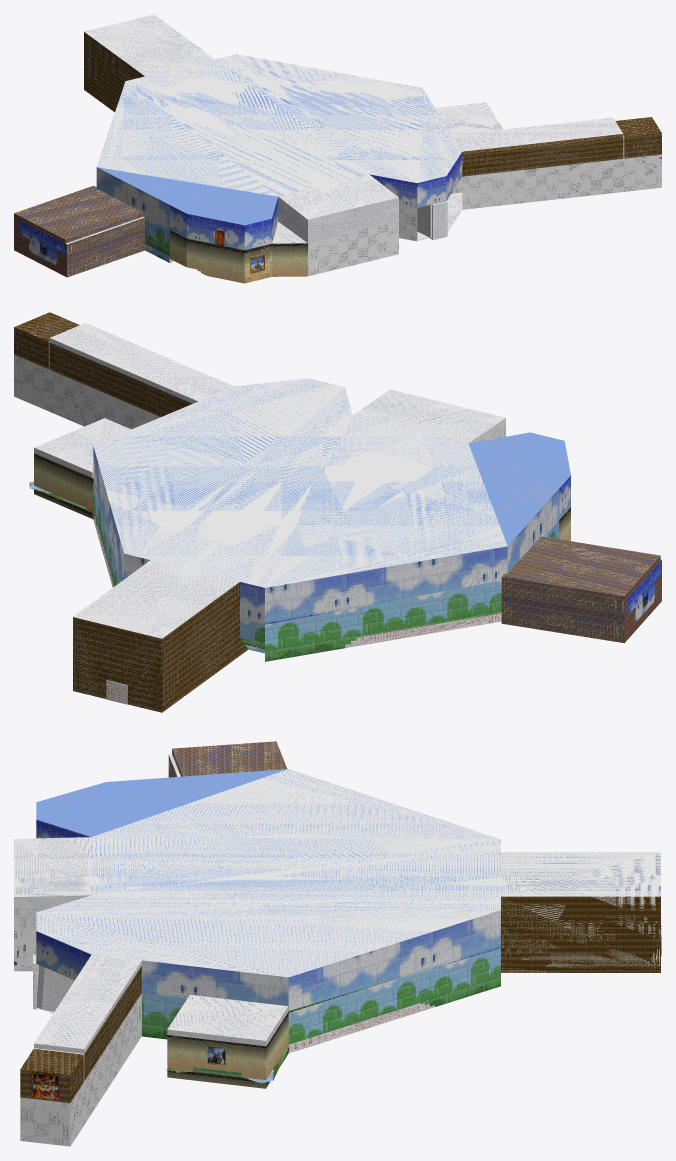
3 renders of one model, top to bottom at view 1: azimuth 30°, elevation 25°; view 2: azimuth 150°, elevation 25°; view 3: azimuth 270°, elevation 25°, orthographic. The views are drawn at different scales.
Parts seen in each view (by area): view 1: SketchUp (×21); view 2: SketchUp (×18); view 3: SketchUp (×19).
Part boxes in pixels (left/top/right/bottom): SketchUp (×21): left=14, top=14, right=661, bottom=283; SketchUp (×18): left=14, top=312, right=661, bottom=712; SketchUp (×19): left=14, top=741, right=660, bottom=1146.
Bounding box in the file's own units: 1247 × 957 × 128.
Materials: 25 (19 with a texture image).
